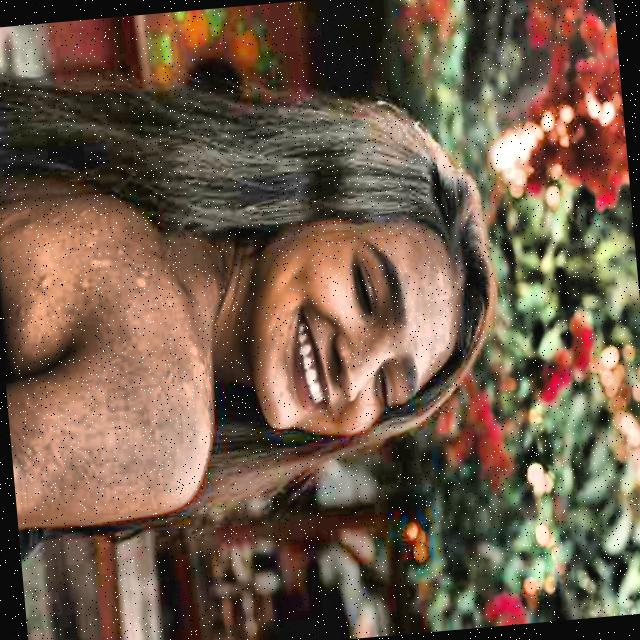happy: (212, 114, 515, 472)
